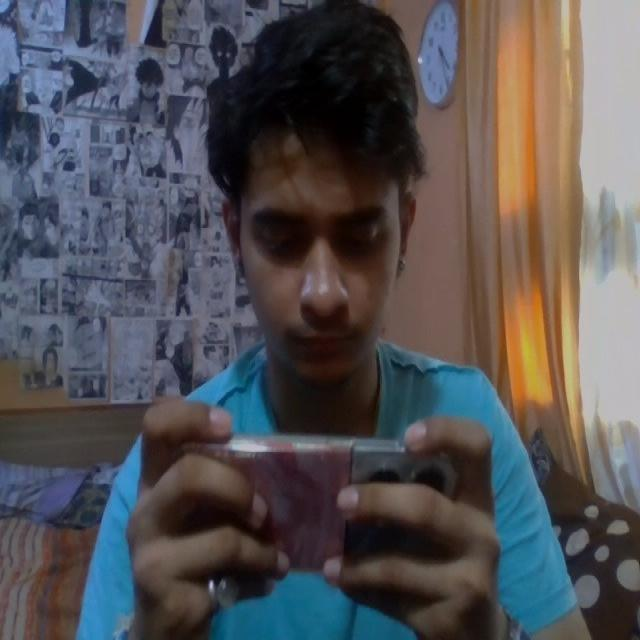phone: (169, 433, 457, 595)
using-phone: (77, 21, 591, 640)
